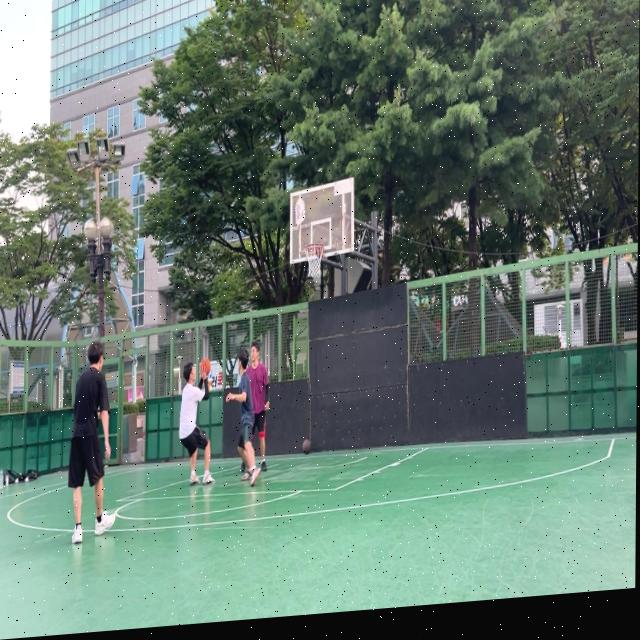basketball: (199, 357, 210, 375), (302, 439, 312, 455)
hoop: (303, 242, 324, 279)
